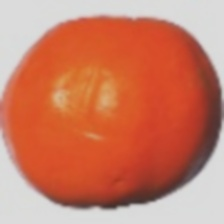tangerine: (15, 30, 171, 167)
